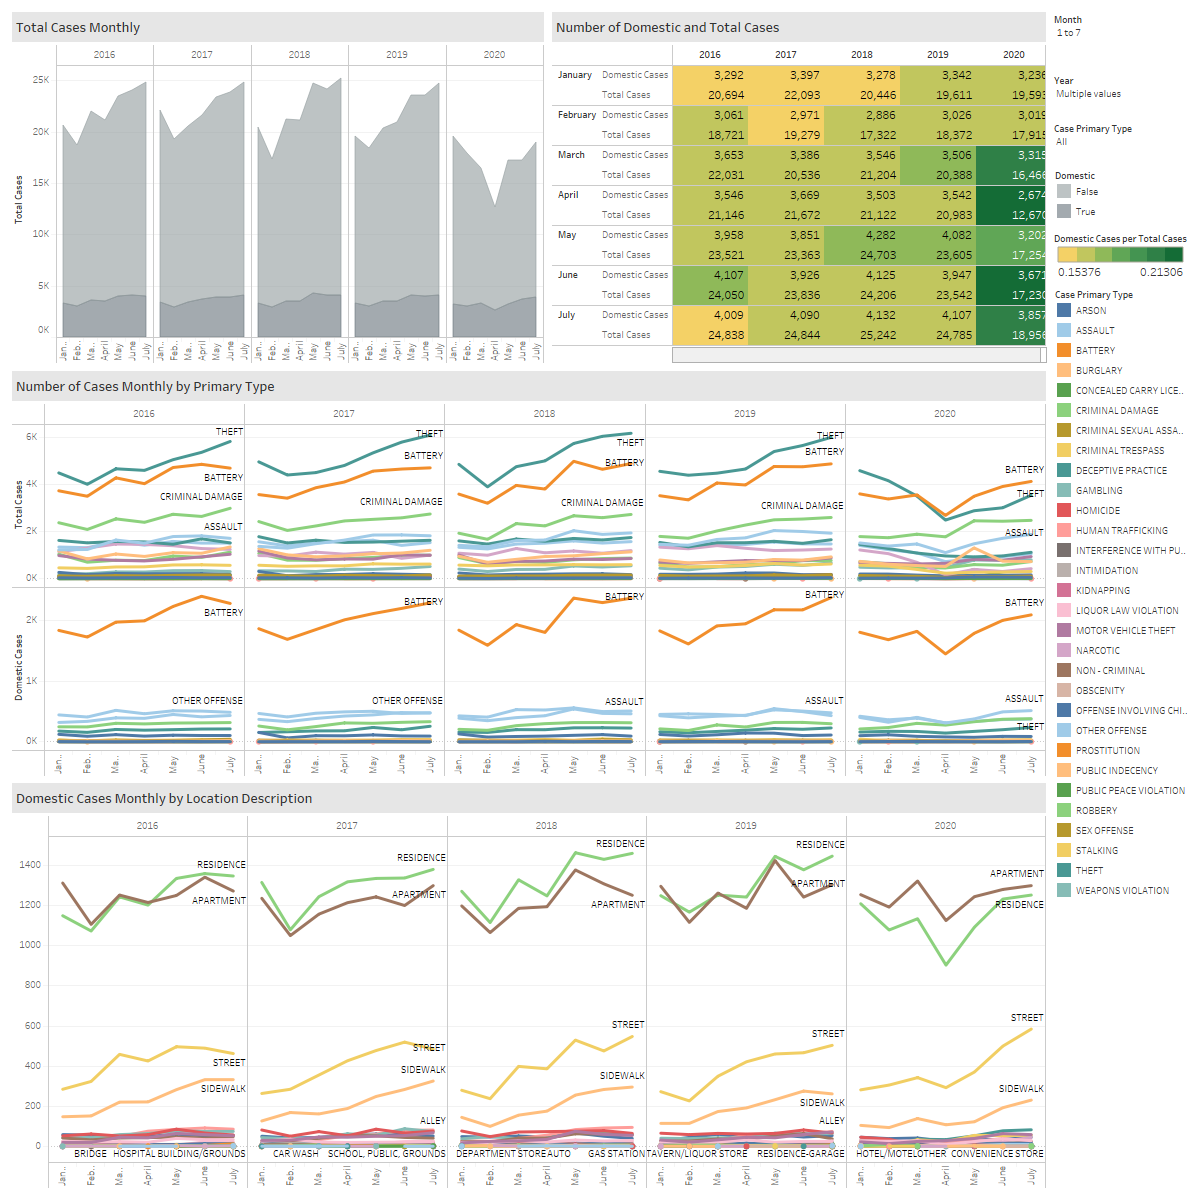

The dashboard page shown, as its layout file describes it:
{"tool":"tableau","page":{"name":"Domestic Cases","canvas":[1200,1200],"ordinal":0},"visuals":[{"type":"worksheet","box":[0,0,1200,1200]},{"type":"worksheet","param":"horz","box":[8,8,1184,1184]},{"type":"worksheet","box":[8,8,1042,1184]},{"type":"worksheet","title":"Total Cases Monthly by Domestic Cases","mark":"Area","rows":["duplicate_sign"],"cols":["date","date"],"box":[8,8,540,358.9]},{"type":"worksheet","title":"Domestic, Total Cases, & Ratio","mark":"Square","rows":["date"],"cols":["date"],"box":[548,8,502,358.9]},{"type":"worksheet","box":[1050,8,142,1184]},{"type":"worksheet","param":"vert","box":[1050,8,142,273.9]},{"type":"worksheet","title":"Total Cases Monthly by Domestic Cases","mark":"Area","rows":["duplicate_sign"],"cols":["date","date"],"param":"[federated.02uvfn11l44j1b16vrfda0fwkby9].[none:month:qk]","box":[1050,8,142,61]},{"type":"worksheet","title":"Total Cases Monthly by Domestic Cases","mark":"Area","rows":["duplicate_sign"],"cols":["date","date"],"param":"[federated.02uvfn11l44j1b16vrfda0fwkby9].[none:year:ok]","box":[1050,69,142,48]},{"type":"worksheet","title":"Domestic & Total Cases by Primary Type","mark":"Automatic","rows":["duplicate_sign","Domestic (copy)_534239524397191169"],"cols":["date","date"],"param":"[federated.02uvfn11l44j1b16vrfda0fwkby9].[none:primary_type_clean:nk]","box":[1050,117,142,46]},{"type":"worksheet","title":"Total Cases Monthly by Domestic Cases","mark":"Area","rows":["duplicate_sign"],"cols":["date","date"],"param":"[federated.02uvfn11l44j1b16vrfda0fwkby9].[none:domestic:nk]","box":[1050,163,142,61]},{"type":"worksheet","title":"Domestic, Total Cases, & Ratio","mark":"Square","rows":["date"],"cols":["date"],"param":"[federated.02uvfn11l44j1b16vrfda0fwkby9].[avg:Domestic (copy)_534239524397191169","box":[1050,224,142,57.9]},{"type":"worksheet","title":"Domestic & Total Cases by Primary Type","mark":"Automatic","rows":["duplicate_sign","Domestic (copy)_534239524397191169"],"cols":["date","date"],"param":"[federated.02uvfn11l44j1b16vrfda0fwkby9].[none:primary_type_clean:nk]","box":[1050,282,142,910]},{"type":"worksheet","title":"Domestic & Total Cases by Primary Type","mark":"Automatic","rows":["duplicate_sign","Domestic (copy)_534239524397191169"],"cols":["date","date"],"box":[8,366.9,1042,412.5]},{"type":"worksheet","title":"Domestic Cases by Location Description","mark":"Automatic","rows":["duplicate_sign"],"cols":["date","date"],"box":[8,779.5,1042,412.5]}]}

Visuals, with their boxes in screenshot pixels (x1, y1, x2, y2), scaled from the page's 1200x1200 canvas onto the 1200x1200 screenshot:
worksheet: locate(0, 0, 1199, 1199)
worksheet: locate(8, 8, 1192, 1192)
worksheet: locate(8, 8, 1050, 1192)
"Total Cases Monthly by Domestic Cases" worksheet (Area marks): locate(8, 8, 548, 367)
"Domestic, Total Cases, & Ratio" worksheet (Square marks): locate(548, 8, 1050, 367)
worksheet: locate(1050, 8, 1192, 1192)
worksheet: locate(1050, 8, 1192, 282)
"Total Cases Monthly by Domestic Cases" worksheet (Area marks): locate(1050, 8, 1192, 69)
"Total Cases Monthly by Domestic Cases" worksheet (Area marks): locate(1050, 69, 1192, 117)
"Domestic & Total Cases by Primary Type" worksheet: locate(1050, 117, 1192, 163)
"Total Cases Monthly by Domestic Cases" worksheet (Area marks): locate(1050, 163, 1192, 224)
"Domestic, Total Cases, & Ratio" worksheet (Square marks): locate(1050, 224, 1192, 282)
"Domestic & Total Cases by Primary Type" worksheet: locate(1050, 282, 1192, 1192)
"Domestic & Total Cases by Primary Type" worksheet: locate(8, 367, 1050, 779)
"Domestic Cases by Location Description" worksheet: locate(8, 780, 1050, 1192)
